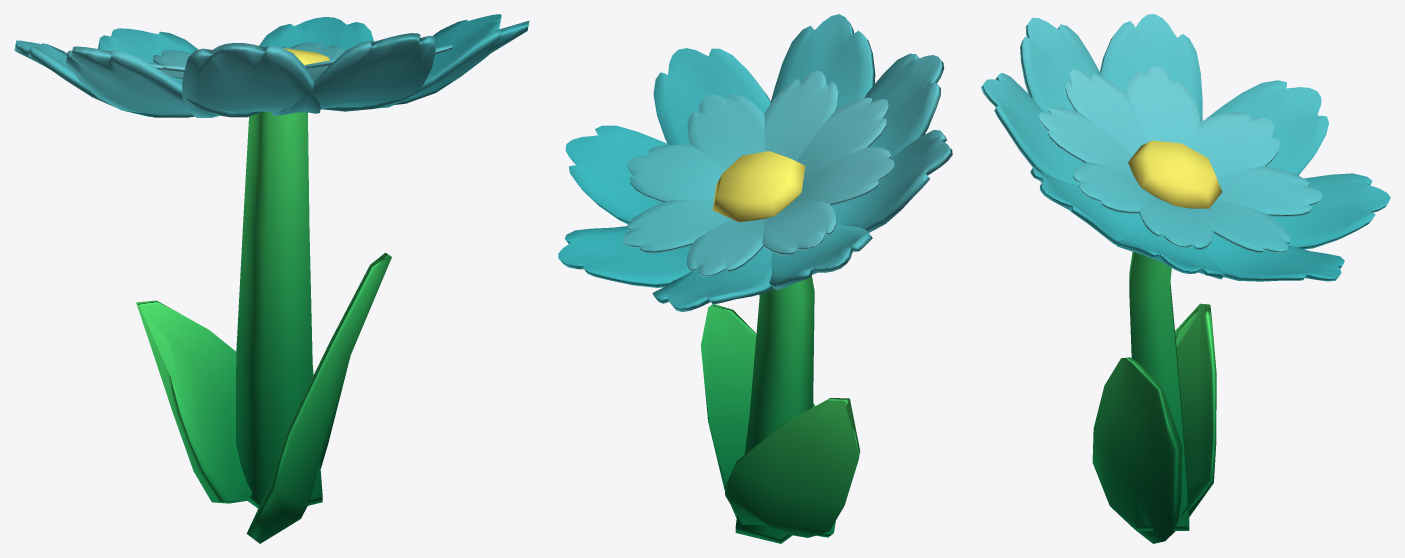
Rendered from FlorCeleste.fbx.
3 views of the same model, side by side, from view 1: azimuth 30°, elevation 25°; view 2: azimuth 150°, elevation 25°; view 3: azimuth 270°, elevation 25° (orthographic). The views are drawn at different scales.
Parts seen in each view (by area): view 1: Flor1b; view 2: Flor1b; view 3: Flor1b.
Part boxes in pixels (x1=…): Flor1b: x1=14, y1=14, x2=529, y2=543; Flor1b: x1=558, y1=14, x2=952, y2=543; Flor1b: x1=981, y1=14, x2=1390, y2=543.
Size of the model in its own units: 87.77 by 106 by 83.86.
